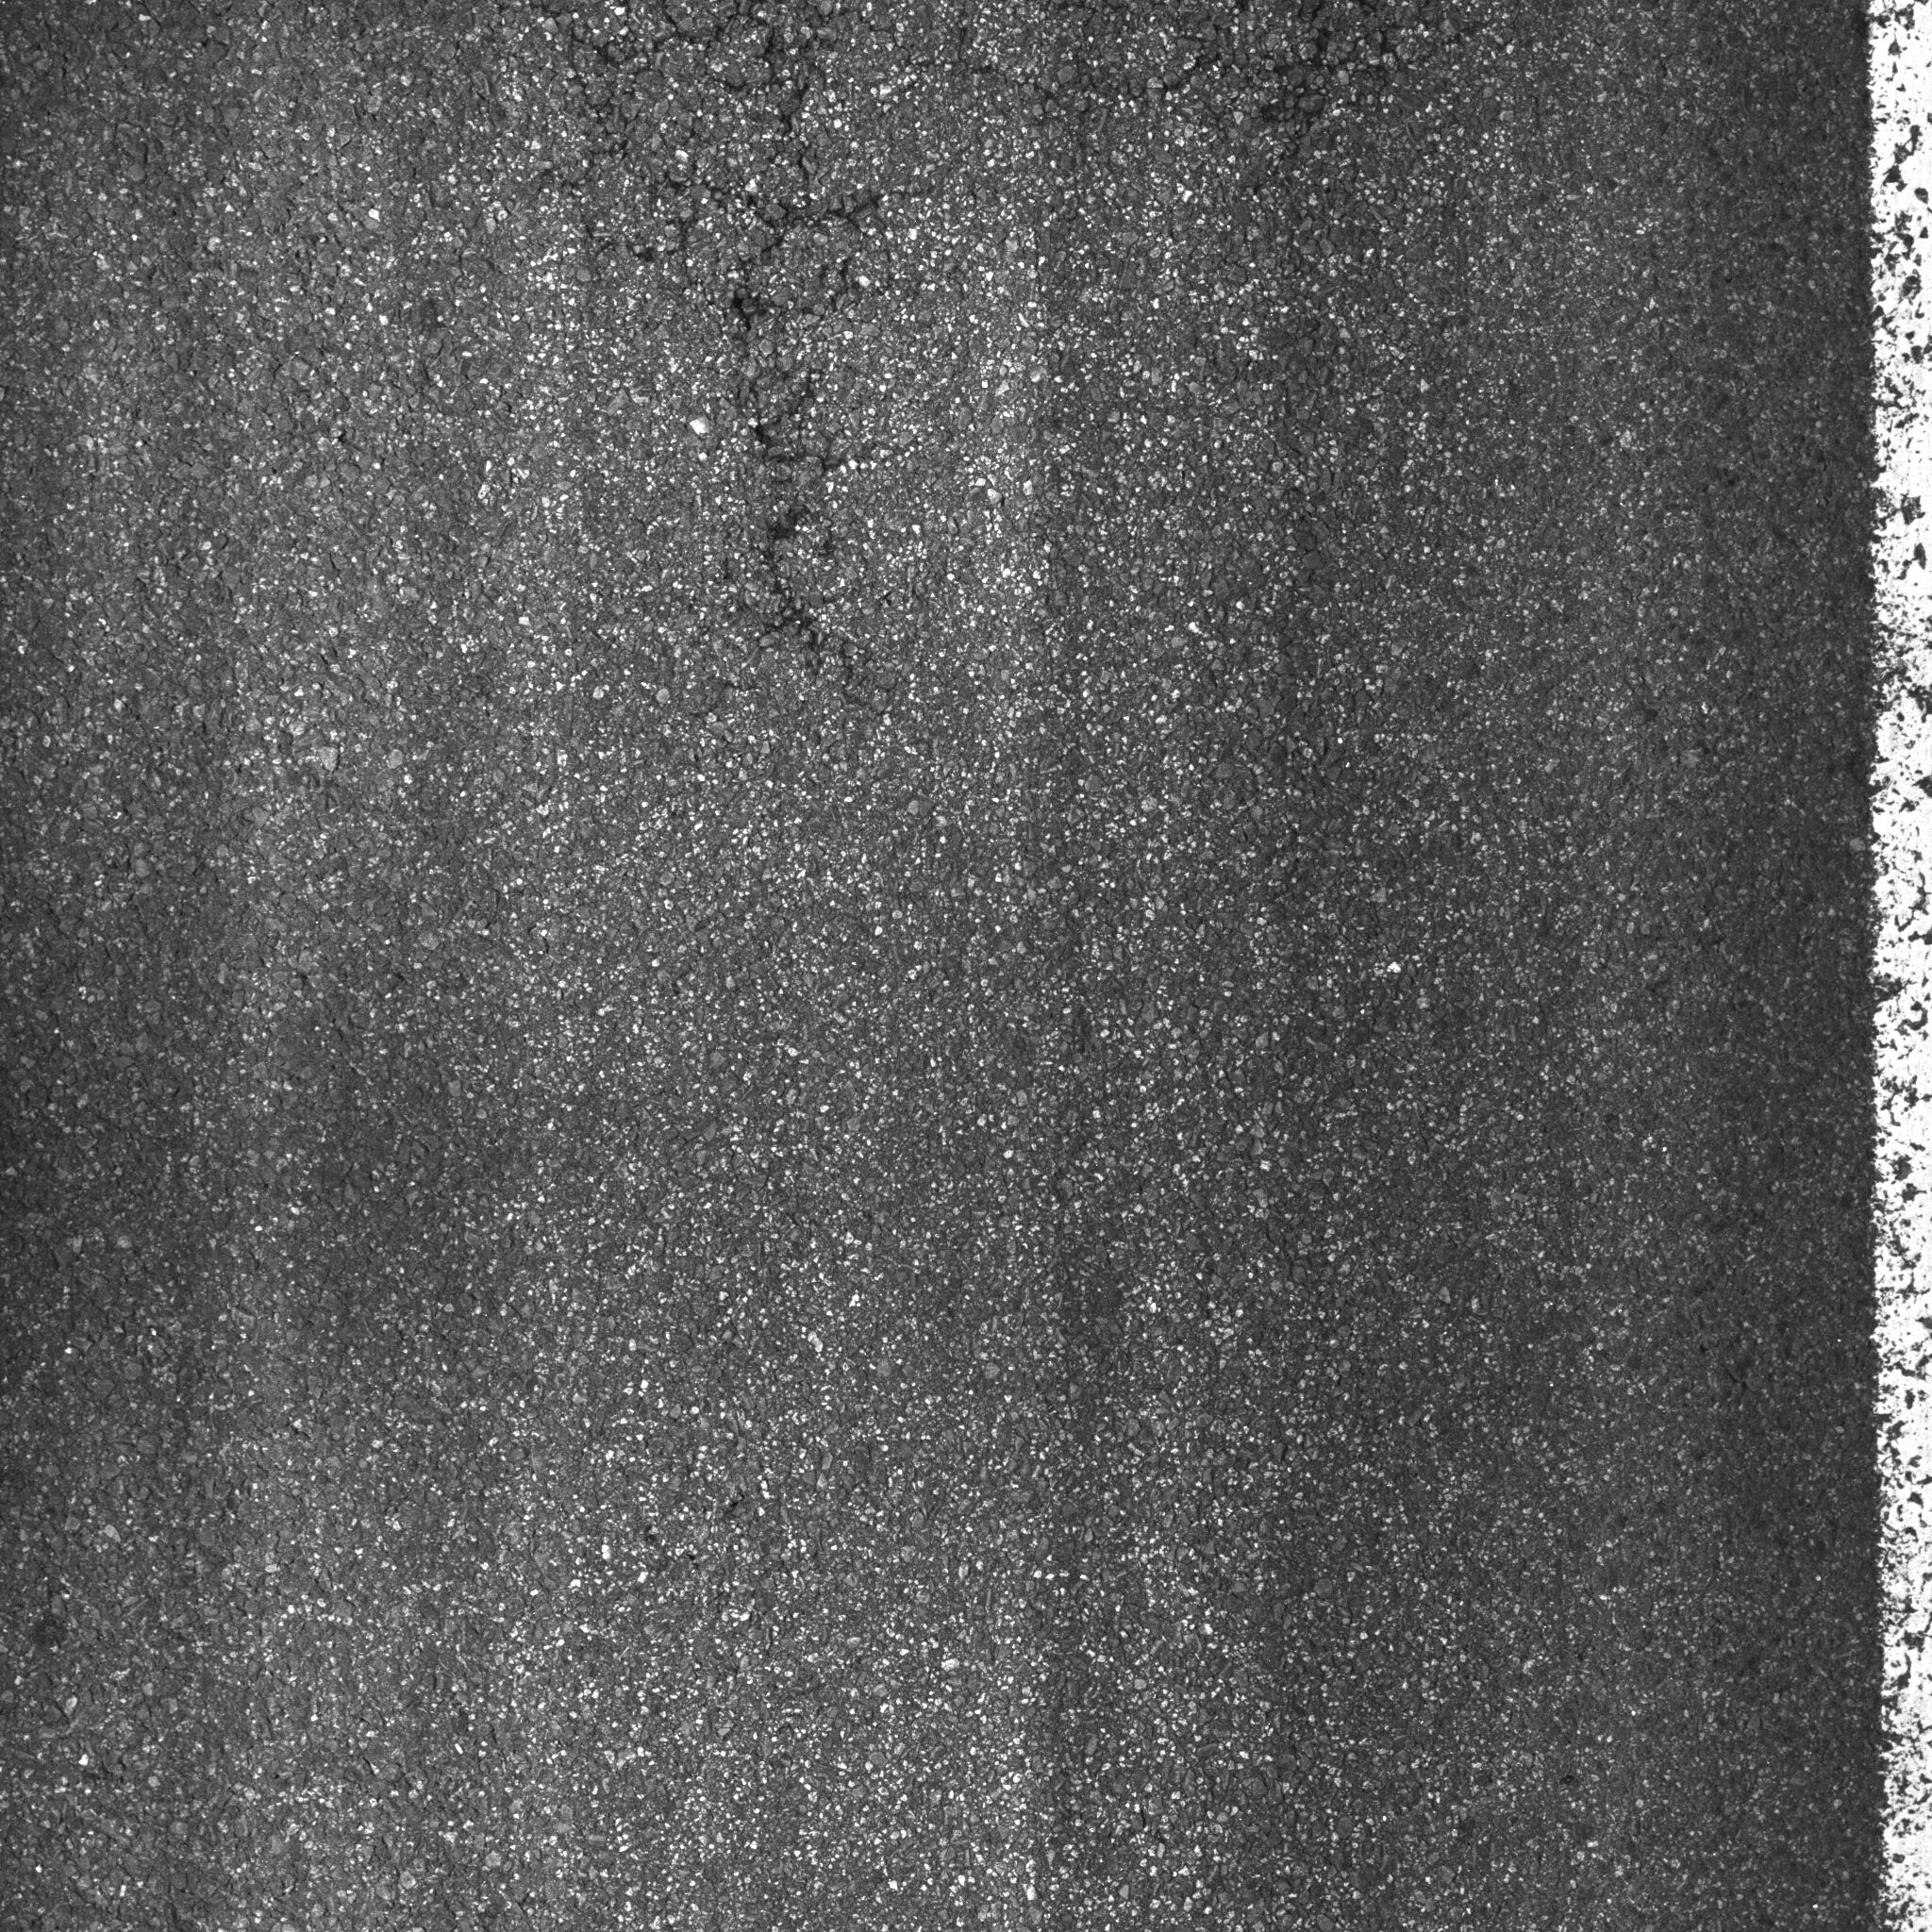alligator: (456, 2, 1125, 766)
